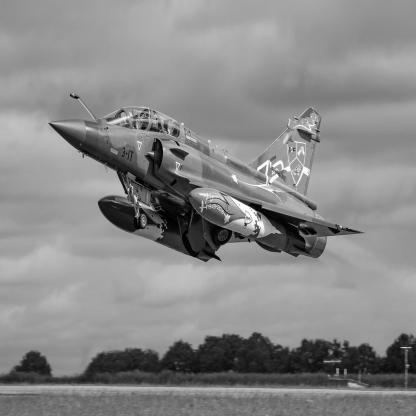Mirage2000: (49, 94, 367, 264)
